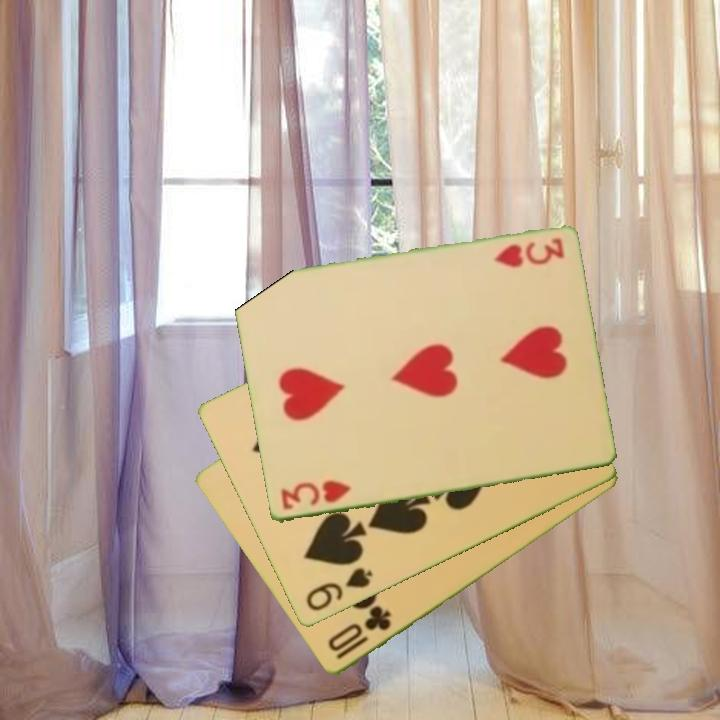10c: (324, 603, 394, 664)
3h: (490, 234, 568, 271), (277, 477, 354, 514)
9s: (302, 564, 376, 615)
